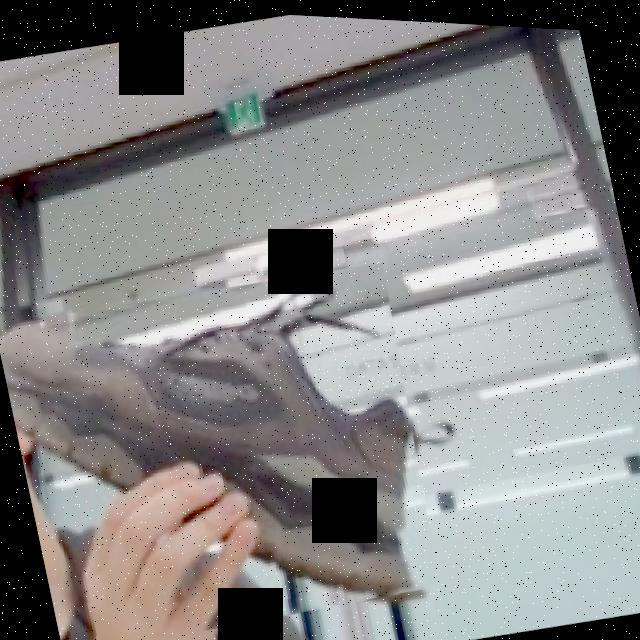shoe: (0, 242, 452, 640)
